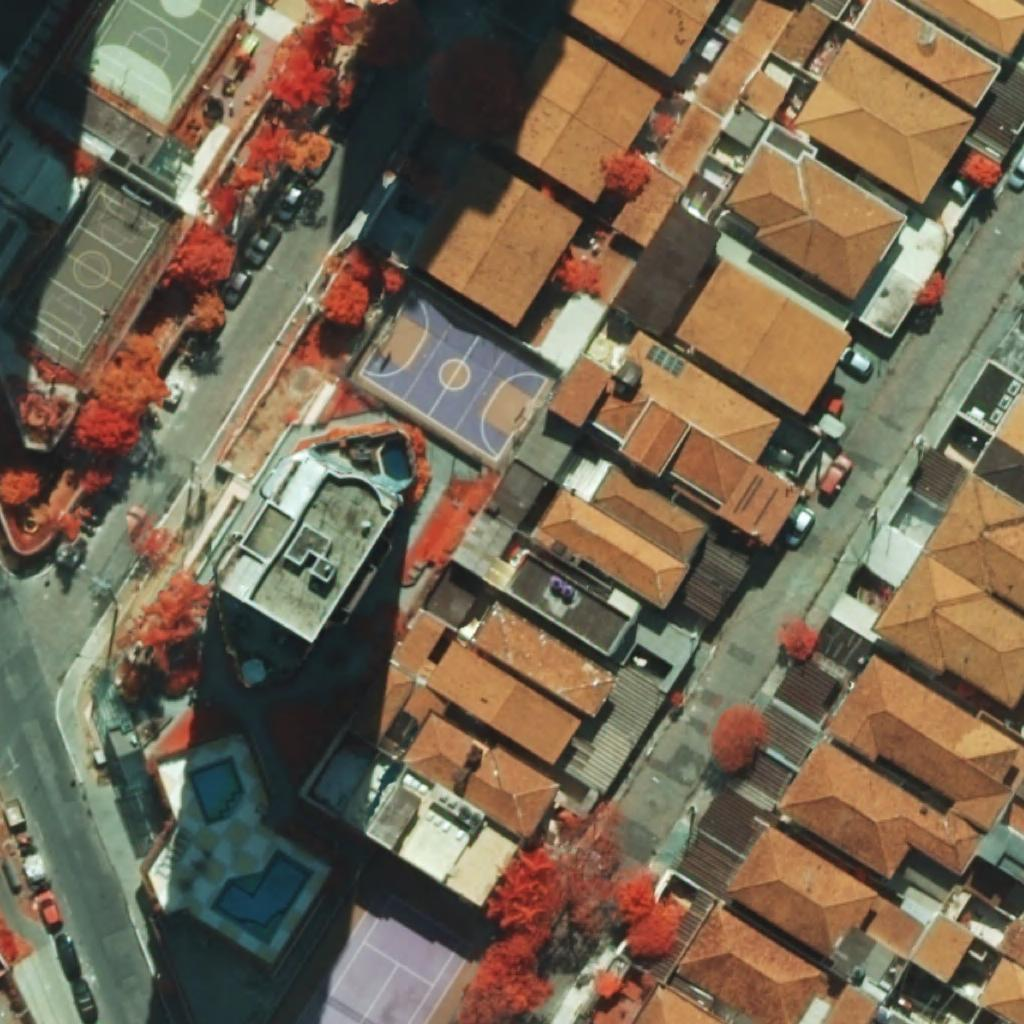pool: (210, 849, 313, 945), (188, 756, 245, 824)
